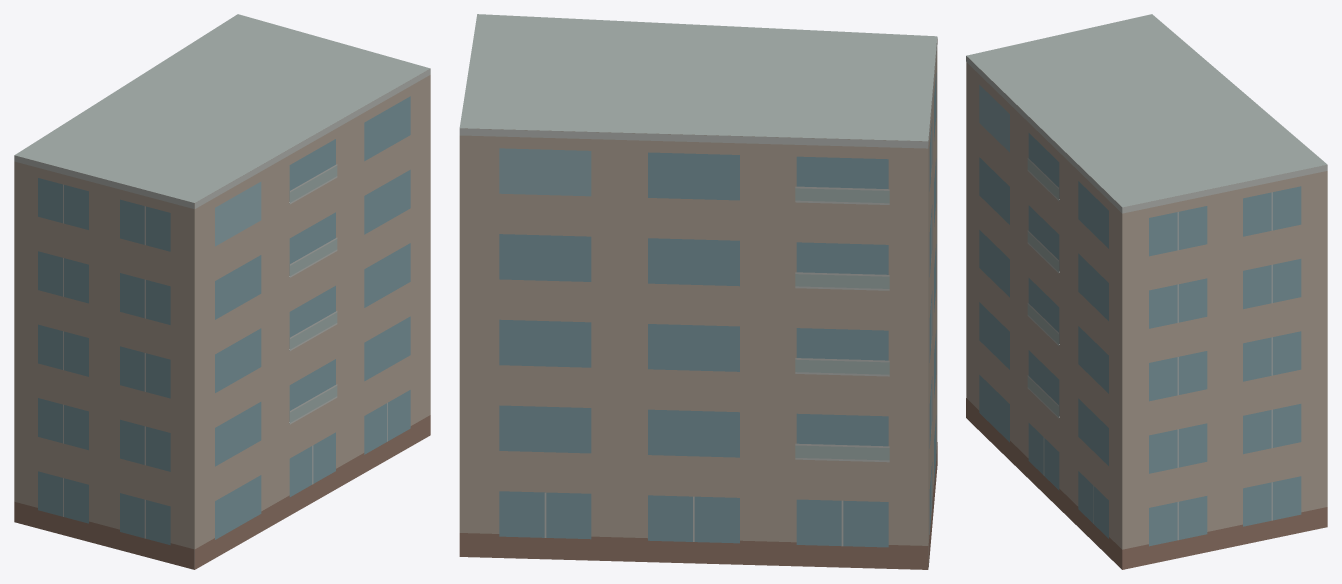
Rendered from survey-upis-32953693.glb.
The picture shows the model from 3 angles, left to right: view 1: azimuth 30°, elevation 25°; view 2: azimuth 150°, elevation 25°; view 3: azimuth 270°, elevation 25°; orthographic projection. The views are drawn at different scales.
Visible parts, largest first — view 1: survey-upis-32953693.tmp; view 2: survey-upis-32953693.tmp; view 3: survey-upis-32953693.tmp.
Boxes of the visible parts, left/top/right/bottom form: survey-upis-32953693.tmp: left=14, top=14, right=430, bottom=569; survey-upis-32953693.tmp: left=459, top=14, right=937, bottom=569; survey-upis-32953693.tmp: left=966, top=14, right=1327, bottom=569.
Bounding box in the file's own units: 16.49 × 14.4 × 13.02.
